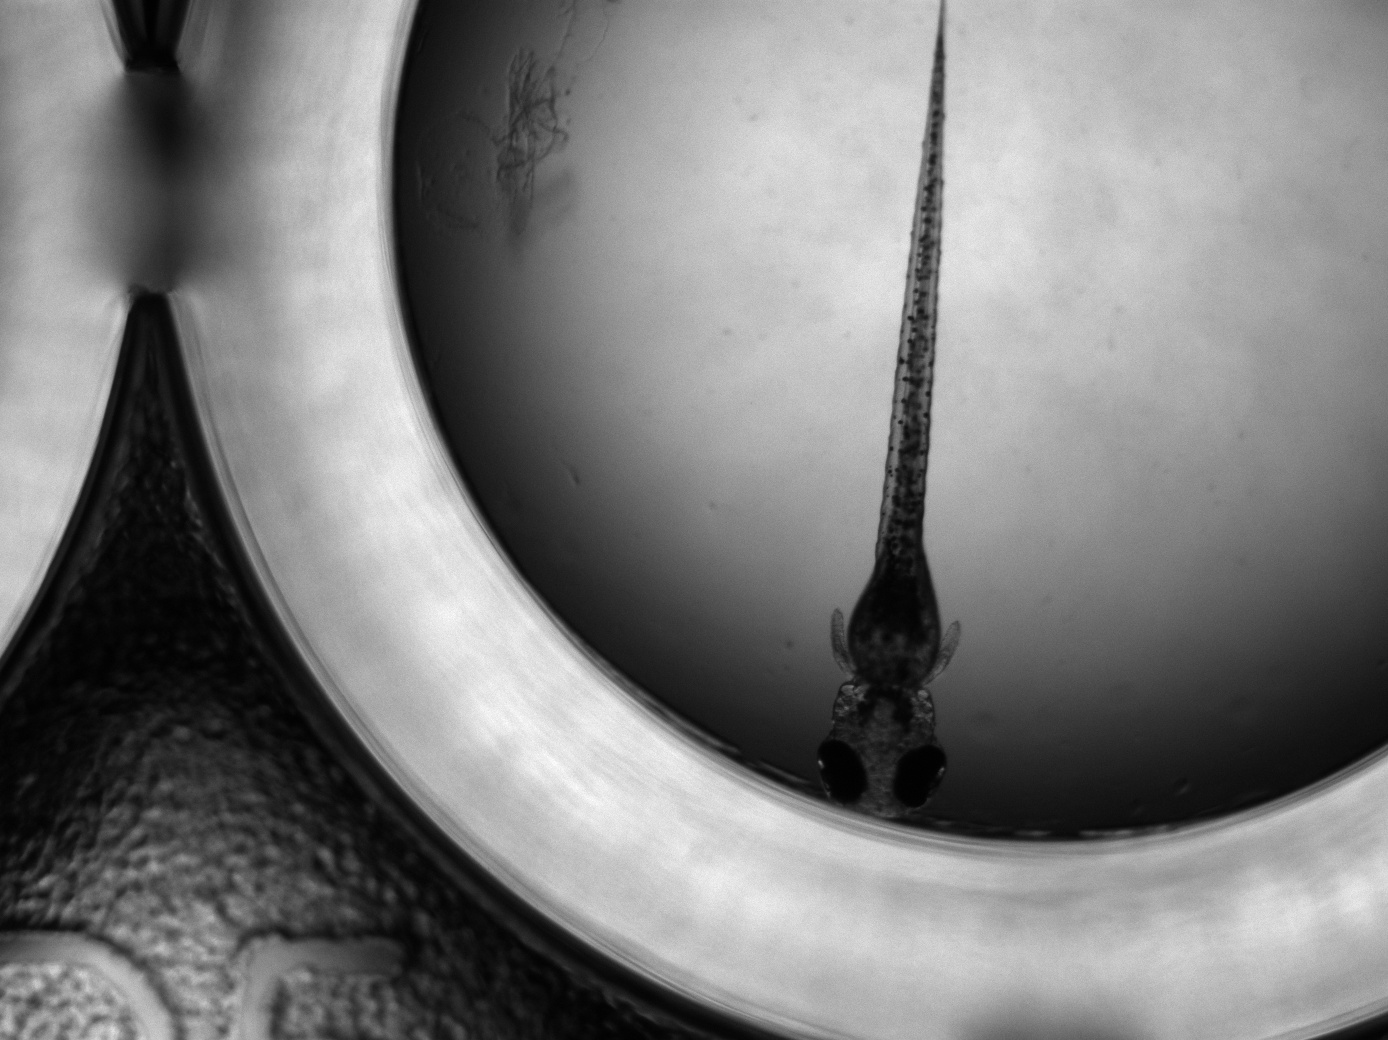debris: (497, 39, 563, 252)
embryo: (818, 1, 964, 818)
eye: (893, 745, 950, 809), (817, 740, 867, 806)
yolksac: (847, 574, 940, 685)
